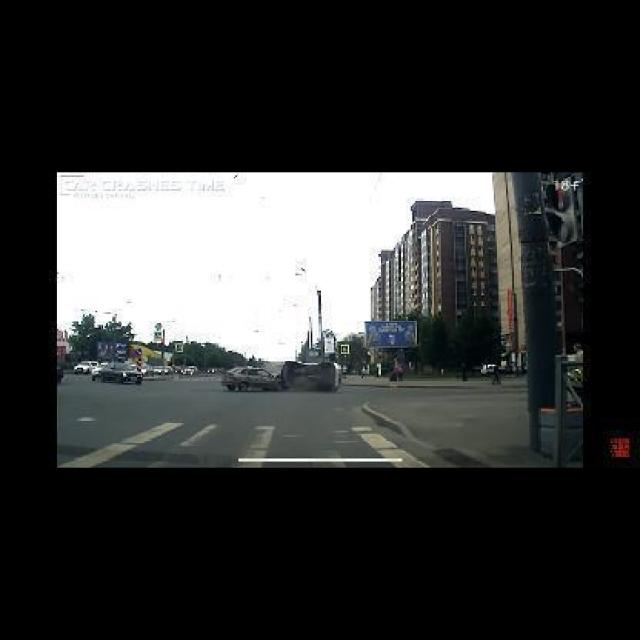accident: (217, 350, 343, 396)
